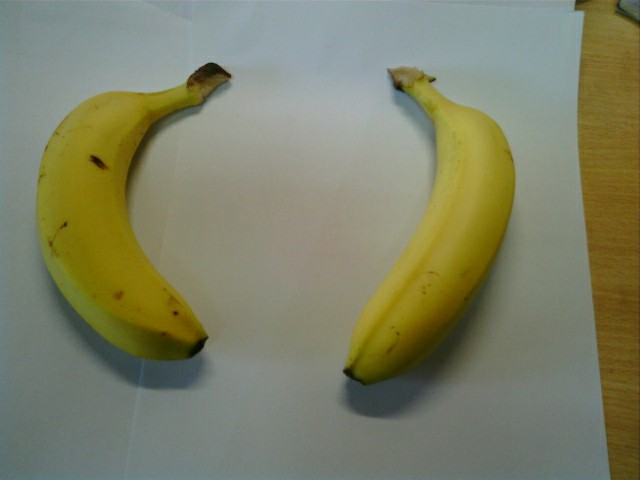fresh_banana: (344, 67, 515, 385)
normal_banana: (36, 76, 210, 361)
